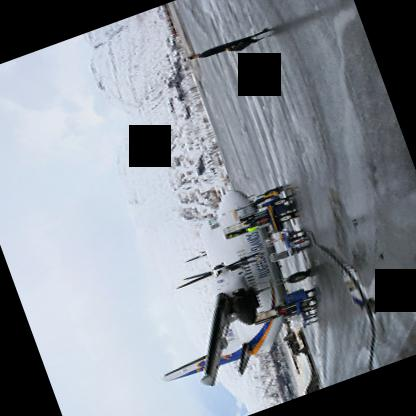suitcase: (228, 39, 255, 50), (256, 221, 270, 229), (255, 216, 270, 223), (254, 211, 267, 217)
